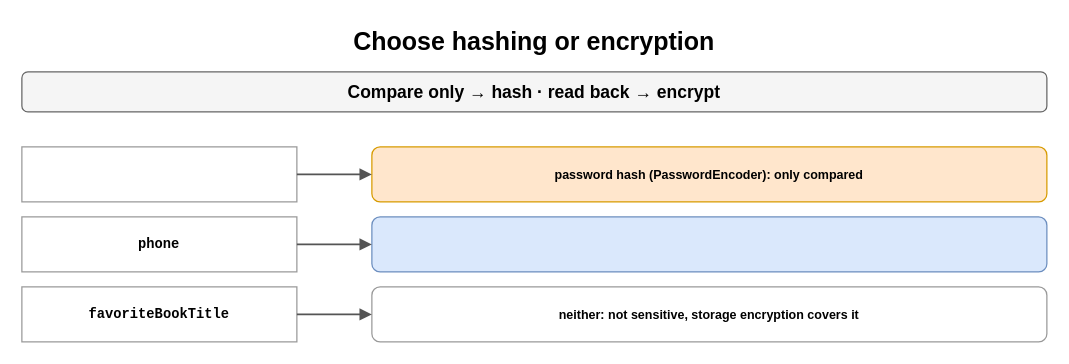
This 1069x364 diagram has some shape labels left out. Here are the shapes that lost their labels. From the top down, the box of each, then its label:
(21, 146, 297, 202): passwordHash
(371, 216, 1047, 272): column encryption: staff read it, dumps must not
